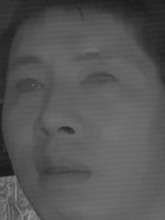eye: (79, 67, 118, 90), (14, 76, 45, 96)
mouth: (31, 149, 94, 192)
